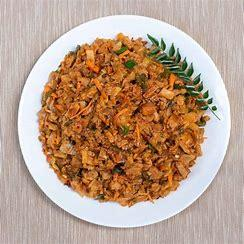Kottu: (31, 26, 212, 220)
